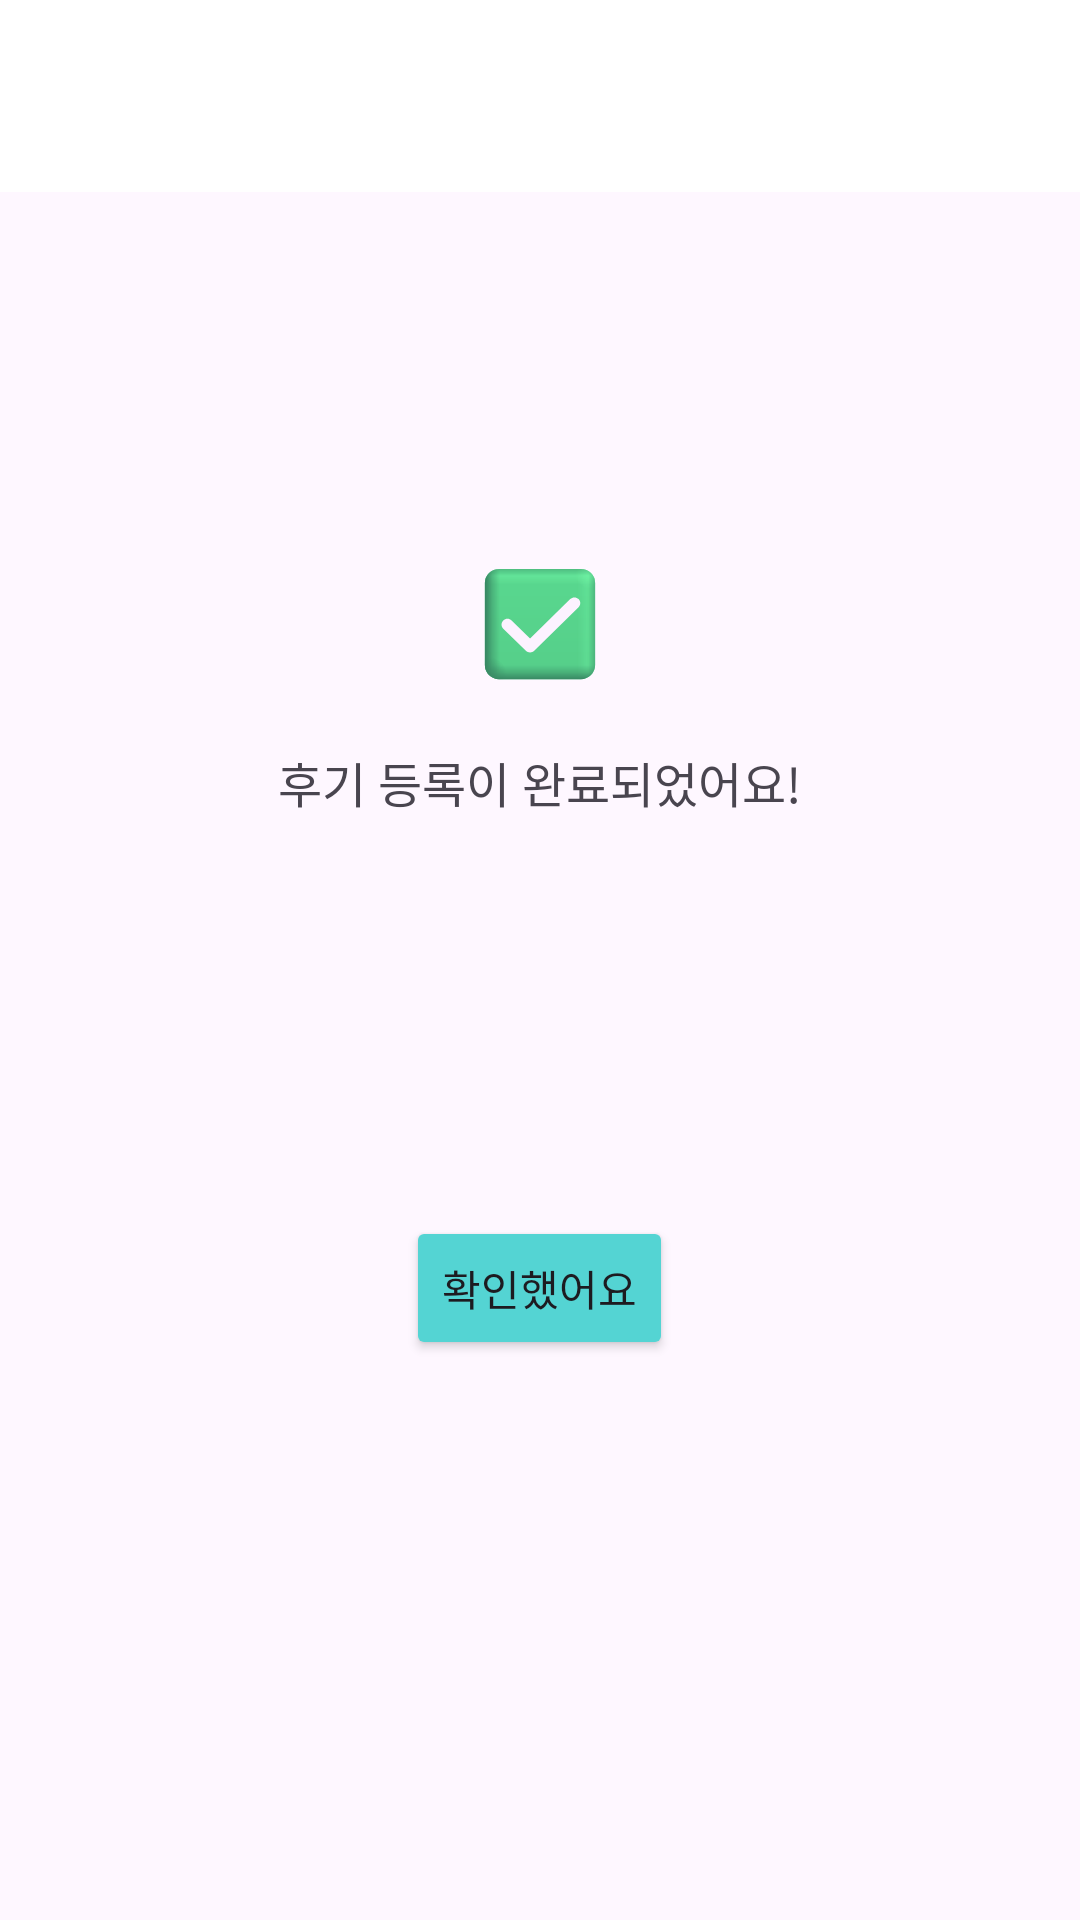

Named icons in this screenshot (1080×1920) and their bounding boxes, bbox=[x1, y1, x2, y2]:
complete: bbox=[484, 569, 596, 680]
